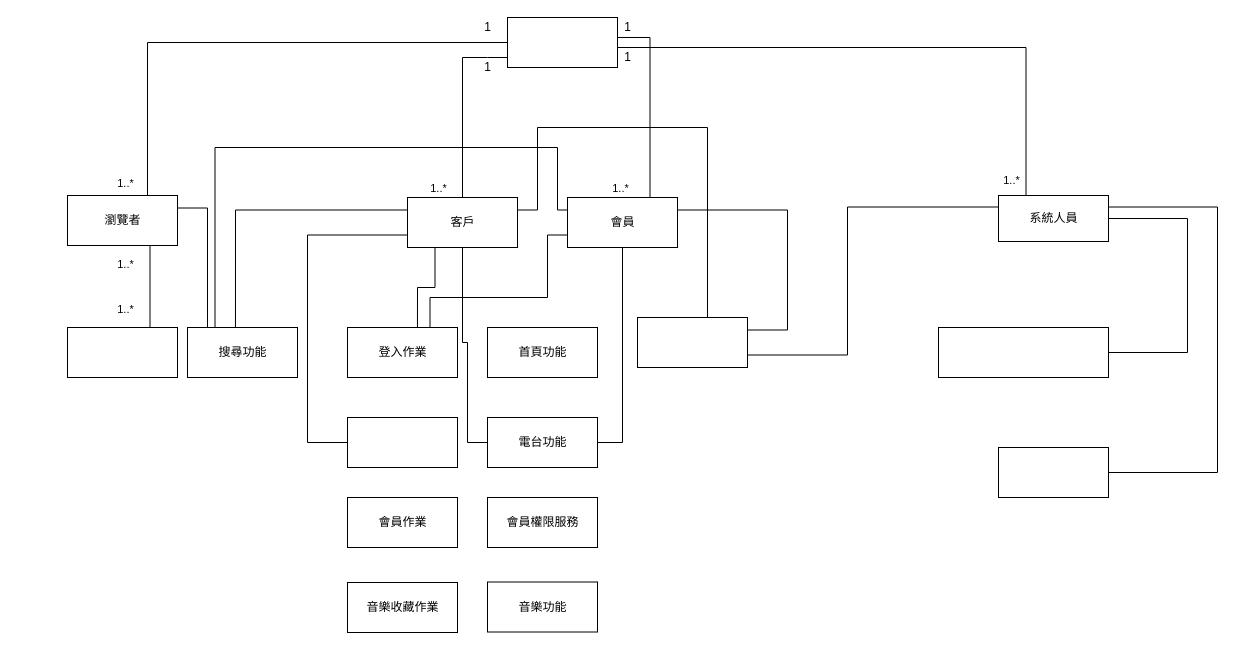
The diagram is 1243 pixels wide and 650 high, and some of its shapes have lost their labels. The shapes that lost their labels are listed below. From the top down, each one's centre as x and y in pixels, then its label:
At (562,42): "spotify".
At (122,352): "註冊作業".
At (692,342): "金流流程".
At (1023,352): "系統人員編輯系統作業".
At (402,442): "個人資料作業".
At (1053,472): "帳號權限管理".
